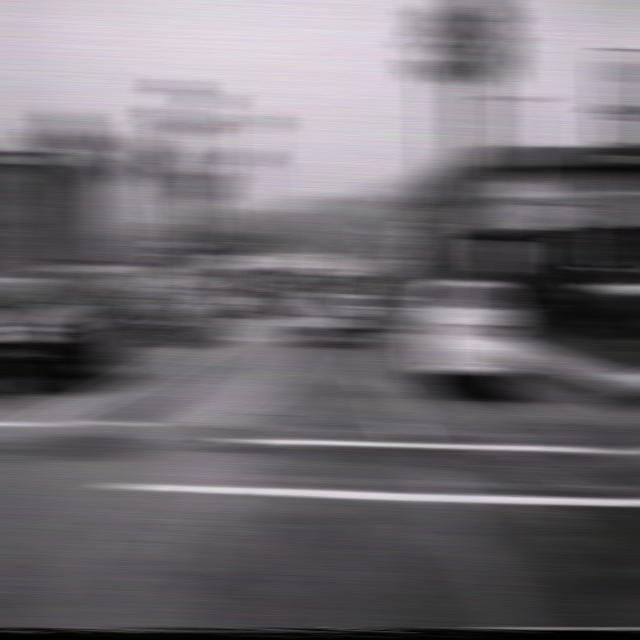speedLimit35: (556, 204, 592, 244)
